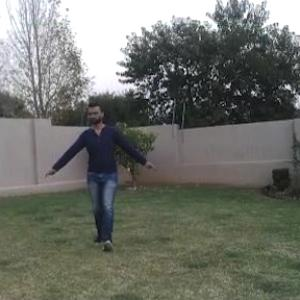land: (34, 90, 164, 264)
